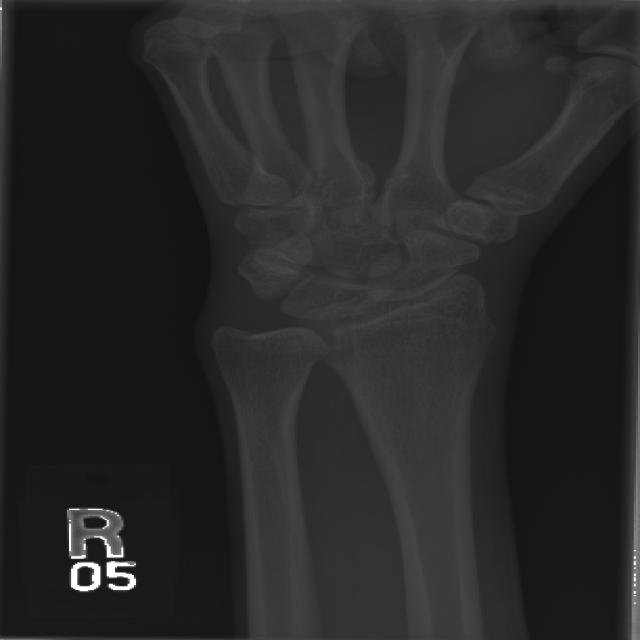wrist positive: (249, 305, 517, 385)
